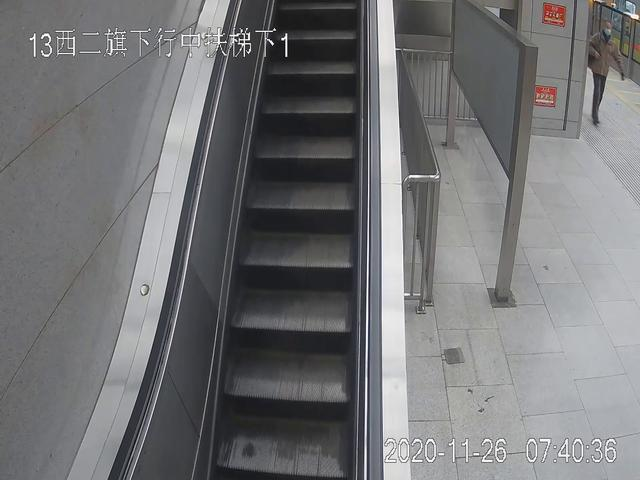person: (586, 20, 625, 126)
